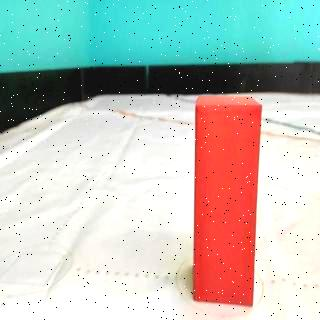redbox: (192, 96, 258, 306)
